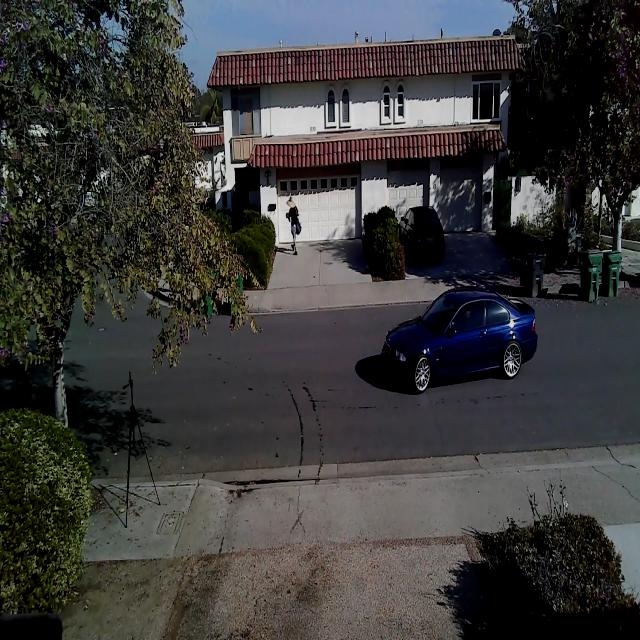Carbeetle: (375, 280, 542, 400)
Civilian: (399, 205, 445, 263)
